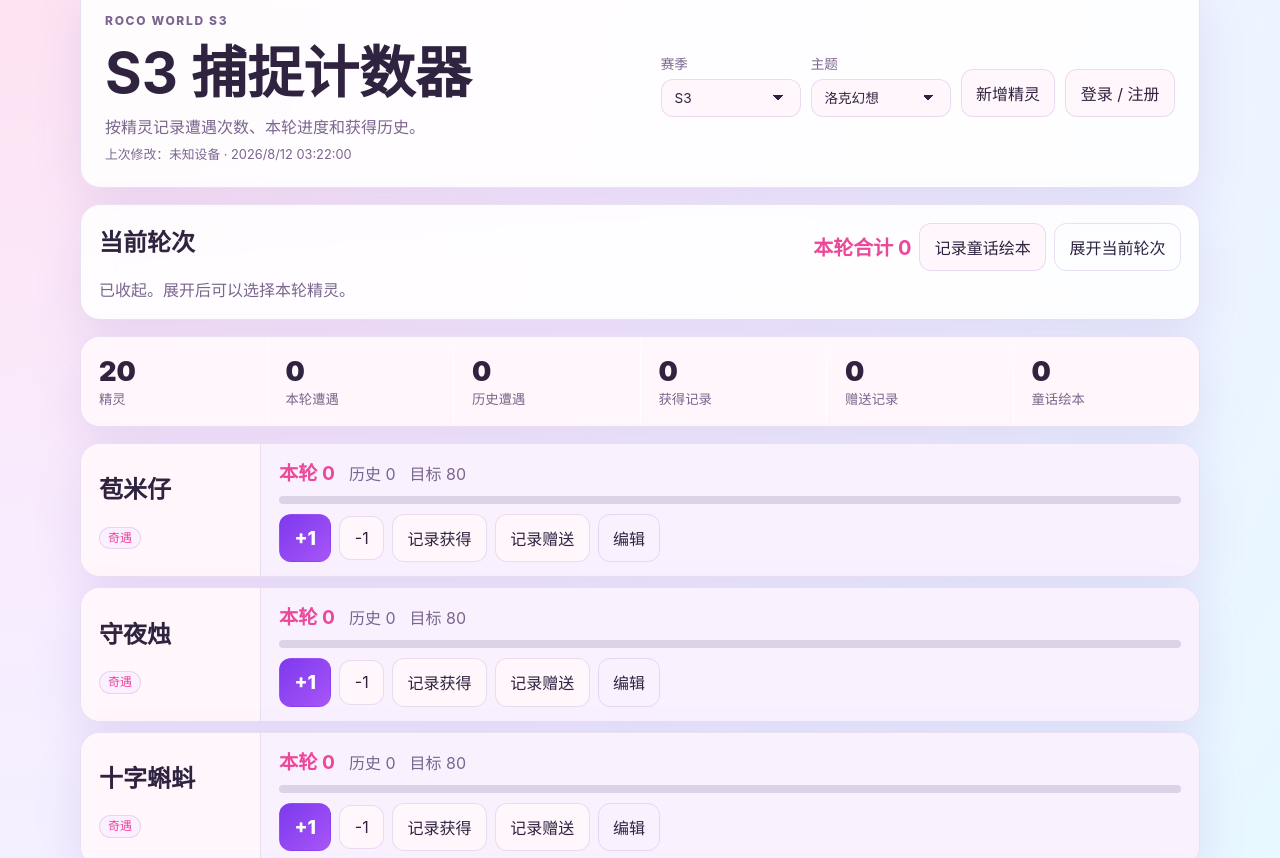
Test: App › automatically uploads local changes after a short delay when sync is configured
What coordinates should you click on to do the following:
click the button "+1" below "苞米仔"
I would click on:
 (305, 538)
Its box is [279,514,331,562].
Wait 1600 ms
(page scrolled)
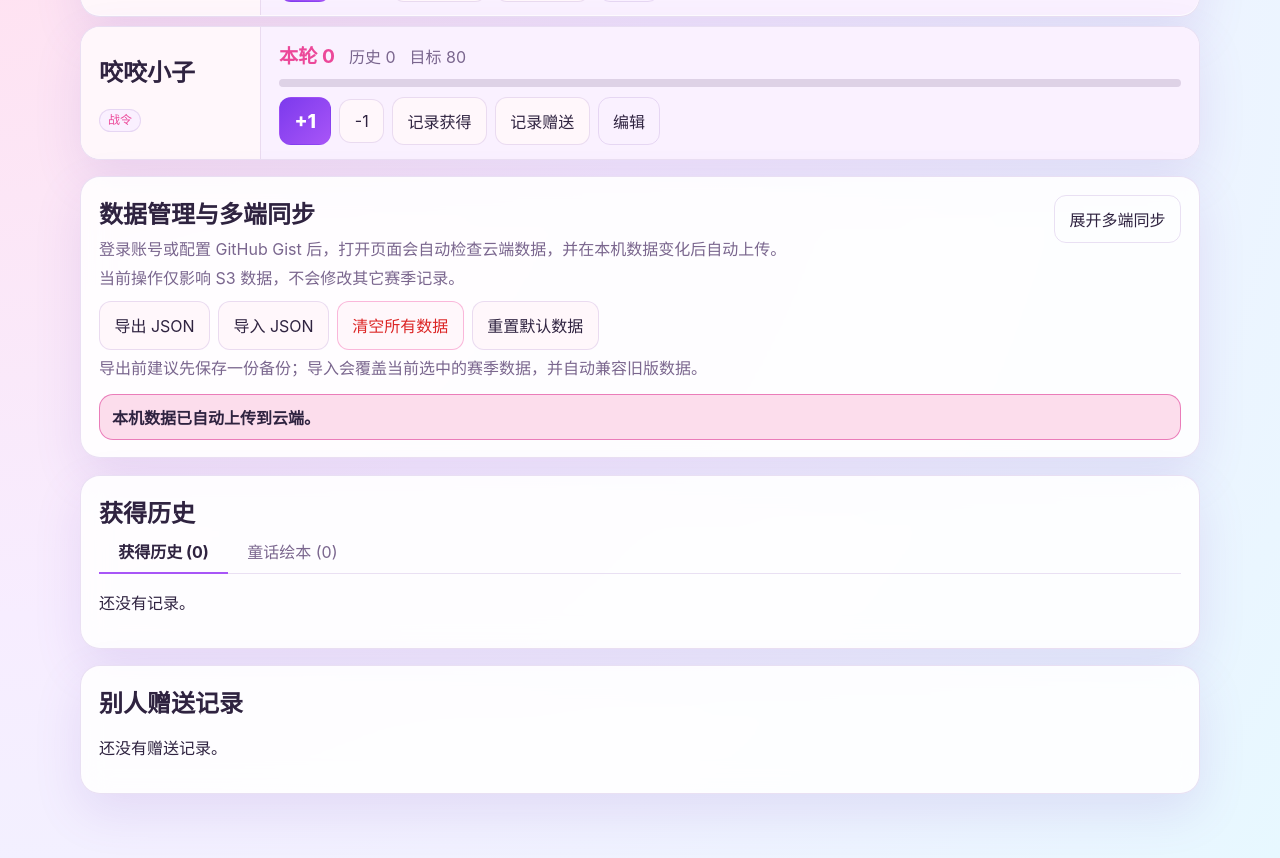
Check: the message reads "本机数据已自动上传到云端。", box [112,408,320,428]
